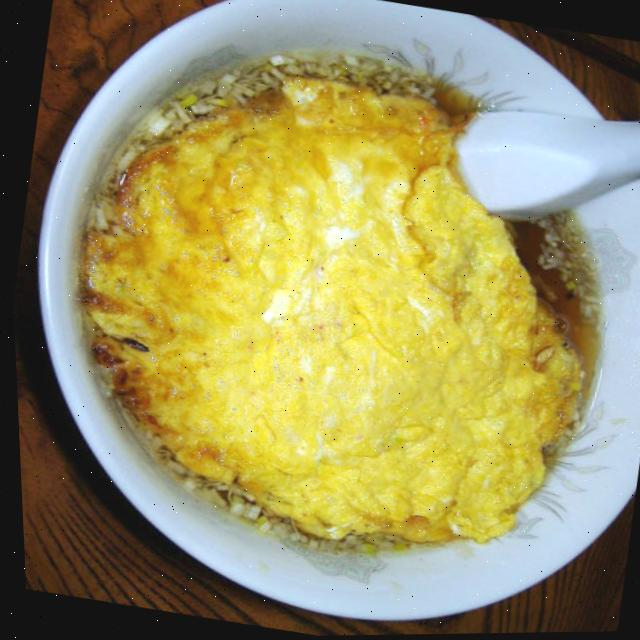面条主食: (30, 10, 640, 610)
